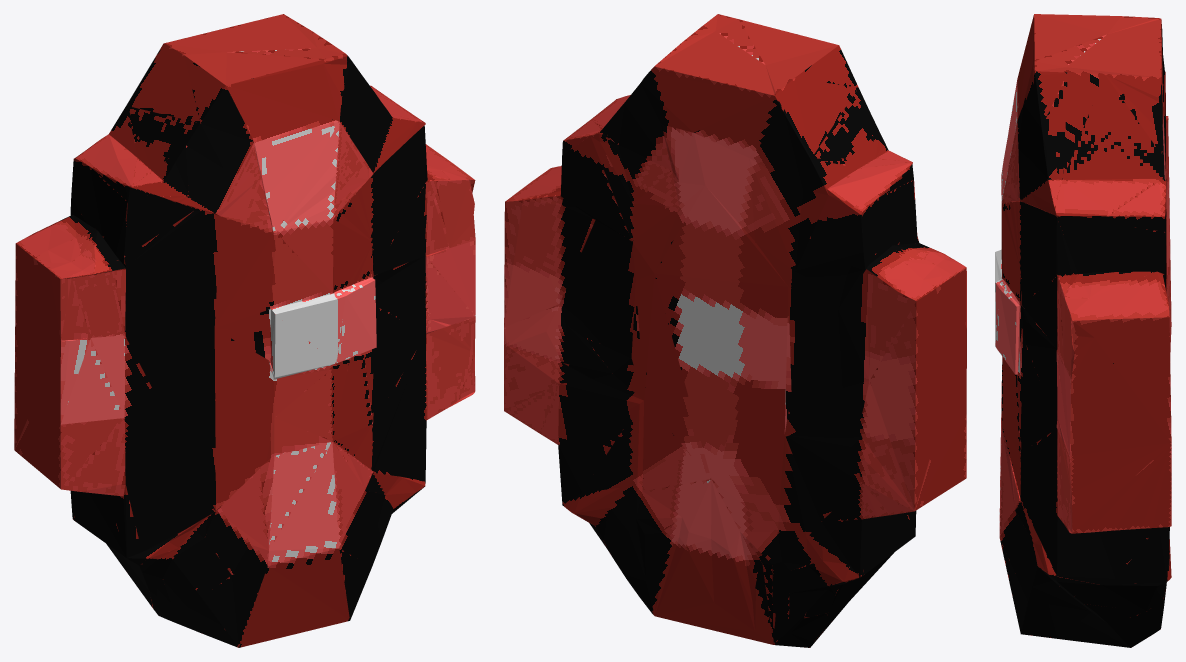
3 views of the same model, side by side, from view 1: azimuth 30°, elevation 25°; view 2: azimuth 150°, elevation 25°; view 3: azimuth 270°, elevation 25° (orthographic).
Parts seen in each view (by area): view 1: OBJ0a2; view 2: OBJ0a2; view 3: OBJ0a2.
Boxes of the visible parts, x1,y1,x2,y2 form: OBJ0a2: [14, 14, 475, 647]; OBJ0a2: [504, 14, 966, 647]; OBJ0a2: [995, 14, 1171, 647].
Bounding box in the file's own units: 0.149 × 0.1933 × 0.0547.
1 material, 1 textured.
